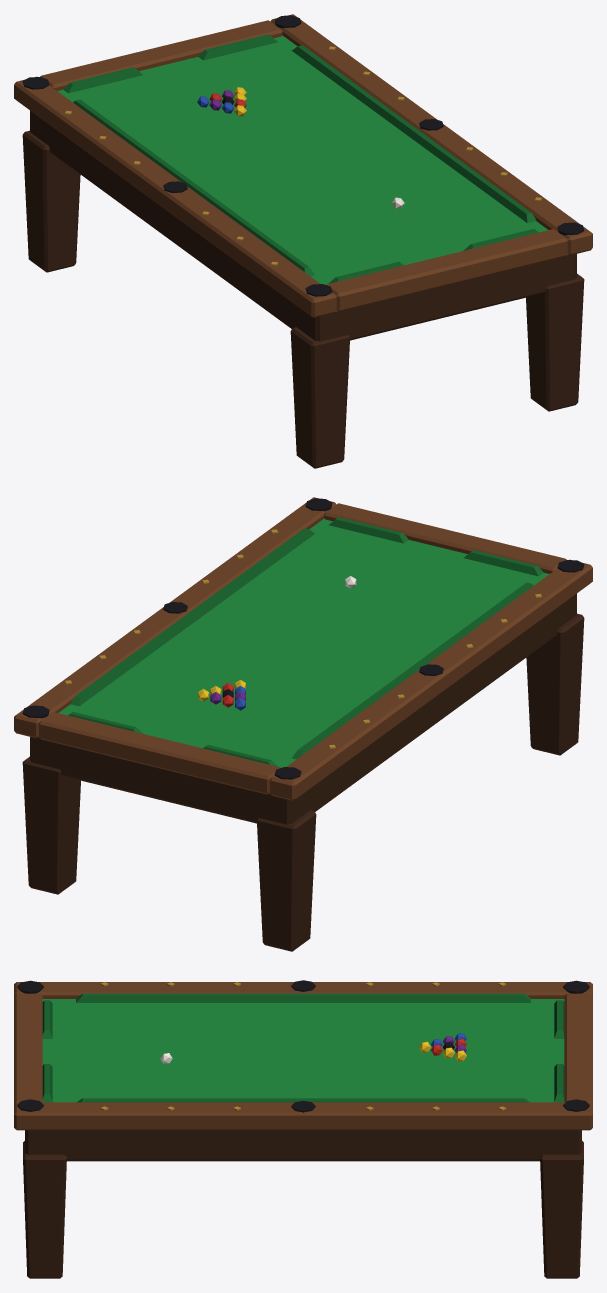
The model's file is pool_table.glb.
3 renders of one model, top to bottom at view 1: azimuth 30°, elevation 25°; view 2: azimuth 150°, elevation 25°; view 3: azimuth 270°, elevation 25°, orthographic. The views are drawn at different scales.
Visible parts, largest first — view 1: pool_table; view 2: pool_table; view 3: pool_table.
Boxes of the visible parts, x1=… form: pool_table: x1=14, y1=14, x2=592, y2=468; pool_table: x1=14, y1=497, x2=592, y2=951; pool_table: x1=14, y1=980, x2=592, y2=1278.
Bounding box in the file's own units: 1.42 × 0.8727 × 2.62.
